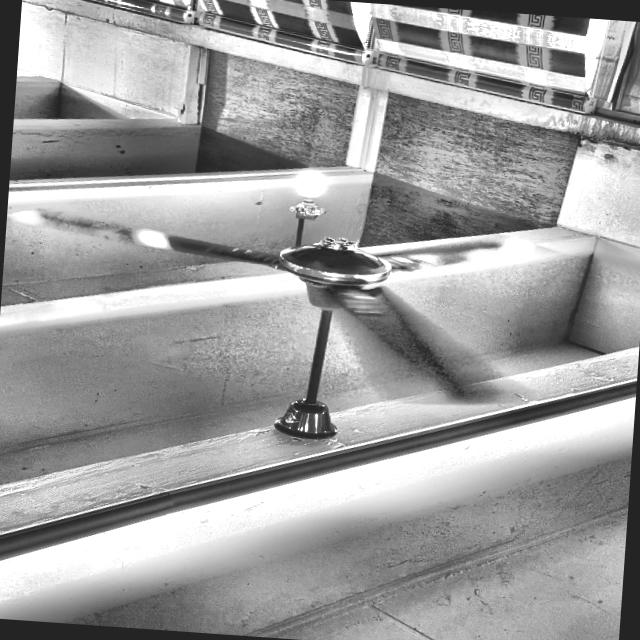fan: (0, 150, 613, 522)
